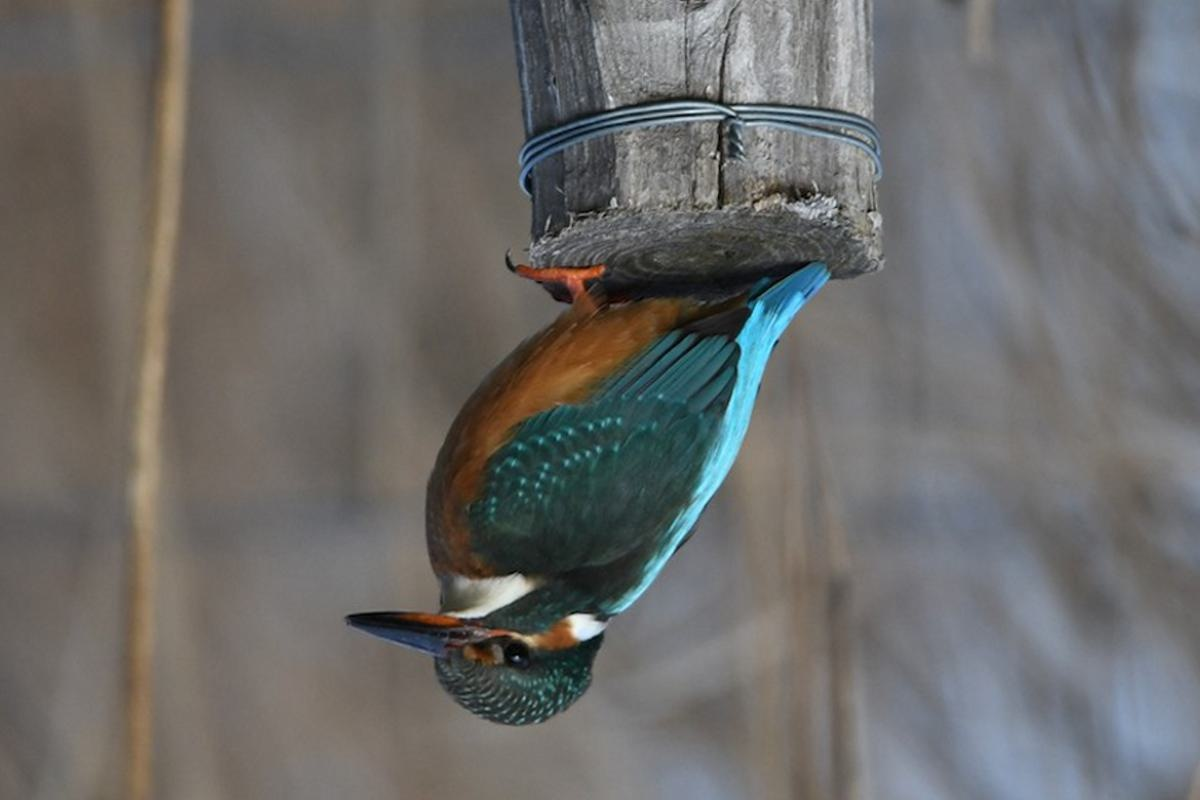kingfisher: (363, 242, 839, 740)
